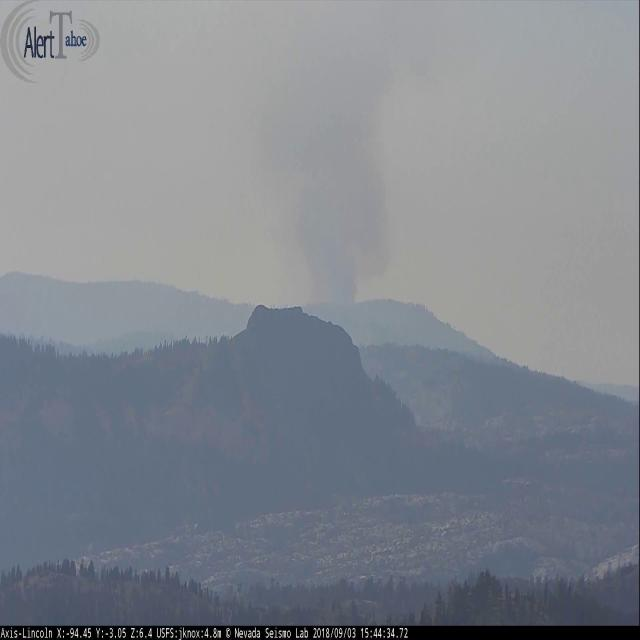smoke: (272, 28, 433, 350)
